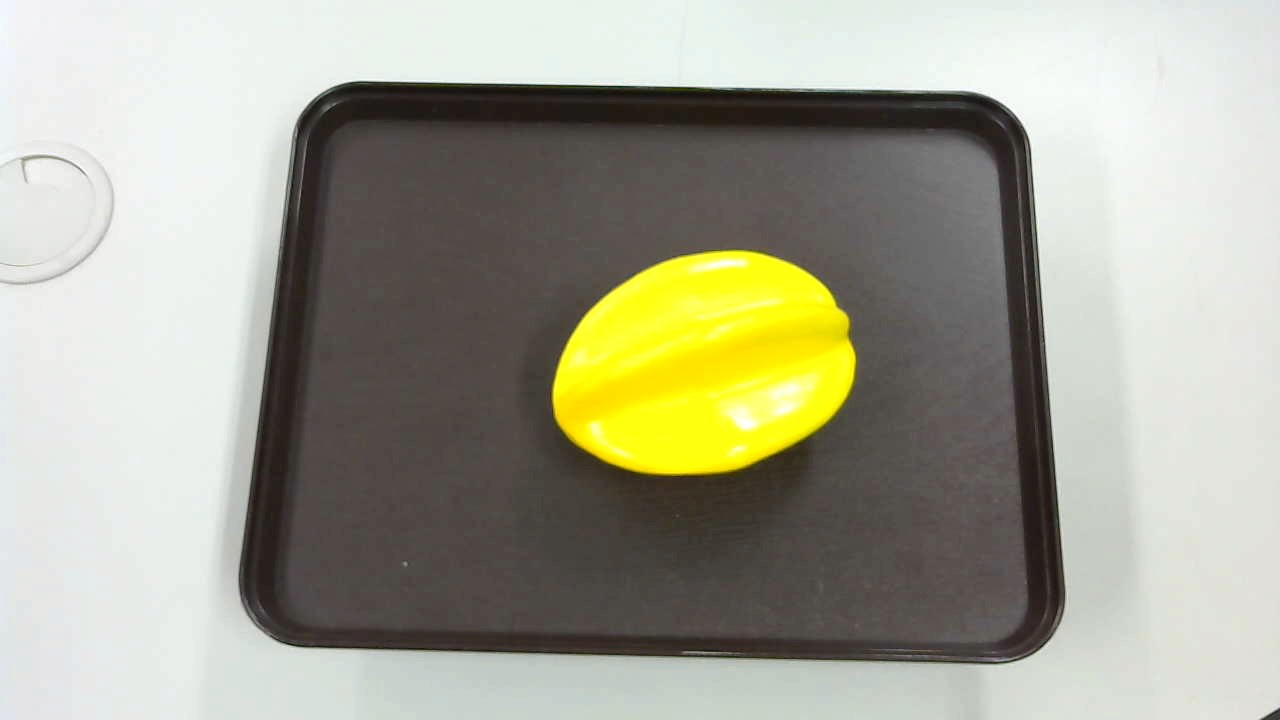star fruit: (542, 249, 862, 480)
